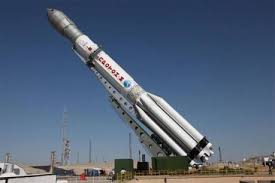ten_lua: (39, 4, 219, 166)
